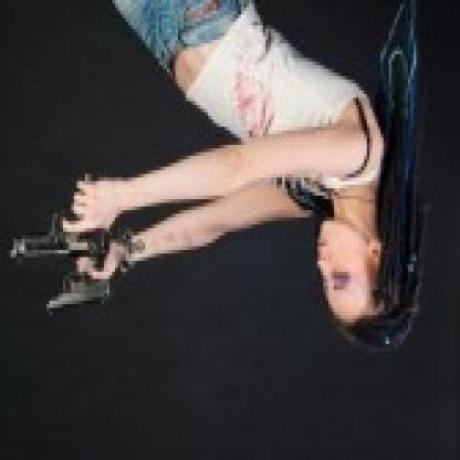1: (63, 0, 428, 356)
weapon: (4, 176, 106, 274), (44, 229, 112, 325)
